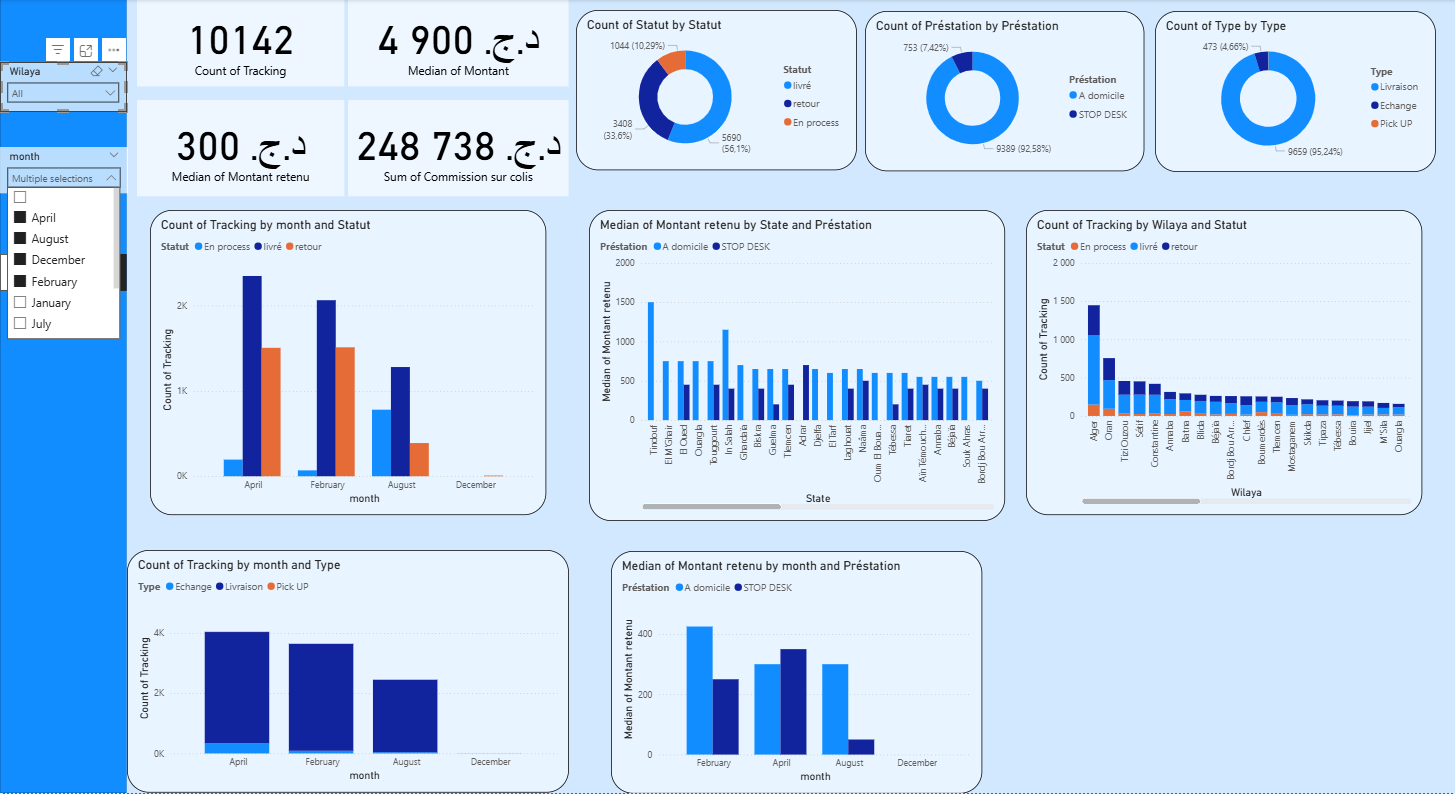

The page's visual inventory and layout, read from the dashboard file:
{"tool":"powerbi","page":{"name":"Page 1","canvas":[1980,1080],"ordinal":0},"visuals":[{"type":"shape","box":[0,0,172.4,1080.1],"z":0},{"type":"donutChart","fields":{"Y":["CountNonNull(filtered_data.Type)"],"Category":["filtered_data.Type"]},"box":[1570.6,16.7,382,219.2],"z":1000},{"type":"donutChart","fields":{"Y":["CountNonNull(filtered_data.Statut)"],"Category":["filtered_data.Statut"]},"box":[783.8,15.2,382,217.6],"z":2000},{"type":"columnChart","fields":{"Category":["filtered_data.Wilaya"],"Y":["CountNonNull(filtered_data.Tracking)"],"Series":["filtered_data.Statut"]},"box":[1395.6,287.6,538.8,415.5],"z":3000},{"type":"slicer","fields":{"Values":["filtered_data.Wilaya"]},"box":[0,85.5,172.4,67.8],"z":4000},{"type":"card","fields":{"Values":["Median(filtered_data.Montant)"]},"box":[473.3,0,299.8,118.7],"z":5000},{"type":"card","fields":{"Values":["Median(filtered_data.Montant retenu)"]},"box":[185.7,137,281.6,130.9],"z":6000},{"type":"columnChart","fields":{"Category":["filtered_date.month"],"Y":["CountNonNull(filtered_date.Tracking)"],"Series":["filtered_date.Type"]},"box":[172.4,750,601.2,330.1],"z":7000},{"type":"donutChart","fields":{"Category":["filtered_date.Préstation"],"Y":["CountNonNull(filtered_date.Préstation)"]},"box":[1176.4,16.7,380.5,217.6],"z":8000},{"type":"slicer","fields":{"Values":["filtered_date.month"]},"box":[0,201.9,173.9,63.4],"z":9000},{"type":"card","fields":{"Values":["Count(filtered_data.Tracking)"]},"box":[185.7,0,281.6,118.7],"z":10000},{"type":"clusteredColumnChart","fields":{"Category":["filtered_date.month"],"Series":["filtered_date.Préstation"],"Y":["Median(filtered_date.Montant retenu)"]},"box":[831,750.3,505.3,330.3],"z":11000},{"type":"card","fields":{"Values":["Sum(filtered_date.Commission sur colis)"]},"box":[473.3,137,299.8,130.9],"z":12000},{"type":"clusteredColumnChart","fields":{"Y":["CountNonNull(filtered_date.Tracking)"],"Category":["filtered_date.month"],"Series":["filtered_date.Statut"]},"box":[203.9,287.6,538.8,415.5],"z":13000},{"type":"clusteredColumnChart","fields":{"Category":["filtered_date.State"],"Series":["filtered_date.Préstation"],"Y":["Median(filtered_date.Montant retenu)"]},"box":[800.5,287.6,566.1,423.1],"z":14000},{"type":"bookmarkNavigator","box":[0,346.3,172.4,50.1],"z":15000}]}

Visuals, with their boxes on the page's 1980x1080 design canvas (x1, y1, x2, y2). These are canvas units, not pixel positions in the 1455x794 screenshot, which may show the page scaled, cropped or inside an application window:
shape: <bbox>0, 0, 172, 1080</bbox>
donutChart - CountNonNull(filtered_data.Type) x filtered_data.Type: <bbox>1571, 17, 1953, 236</bbox>
donutChart - CountNonNull(filtered_data.Statut) x filtered_data.Statut: <bbox>784, 15, 1166, 233</bbox>
columnChart - filtered_data.Wilaya x CountNonNull(filtered_data.Tracking): <bbox>1396, 288, 1934, 703</bbox>
slicer - filtered_data.Wilaya: <bbox>0, 86, 172, 153</bbox>
card - Median(filtered_data.Montant): <bbox>473, 0, 773, 119</bbox>
card - Median(filtered_data.Montant retenu): <bbox>186, 137, 467, 268</bbox>
columnChart - filtered_date.month x CountNonNull(filtered_date.Tracking): <bbox>172, 750, 774, 1080</bbox>
donutChart - filtered_date.Préstation x CountNonNull(filtered_date.Préstation): <bbox>1176, 17, 1557, 234</bbox>
slicer - filtered_date.month: <bbox>0, 202, 174, 265</bbox>
card - Count(filtered_data.Tracking): <bbox>186, 0, 467, 119</bbox>
clusteredColumnChart - filtered_date.month x filtered_date.Préstation: <bbox>831, 750, 1336, 1081</bbox>
card - Sum(filtered_date.Commission sur colis): <bbox>473, 137, 773, 268</bbox>
clusteredColumnChart - CountNonNull(filtered_date.Tracking) x filtered_date.month: <bbox>204, 288, 743, 703</bbox>
clusteredColumnChart - filtered_date.State x filtered_date.Préstation: <bbox>800, 288, 1367, 711</bbox>
bookmarkNavigator: <bbox>0, 346, 172, 396</bbox>
